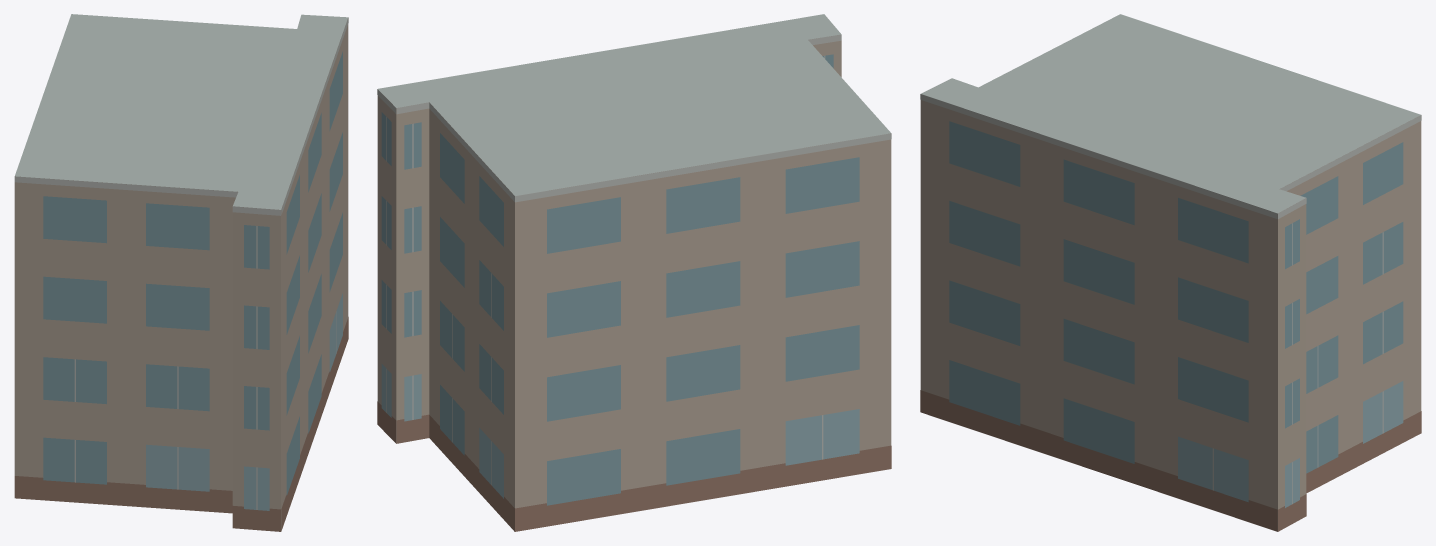
Rendered from survey-upis-32595509.glb.
The picture shows the model from 3 angles, left to right: view 1: azimuth 30°, elevation 25°; view 2: azimuth 150°, elevation 25°; view 3: azimuth 270°, elevation 25°; orthographic projection. The views are drawn at different scales.
Visible parts, largest first — view 1: survey-upis-32595509.tmp; view 2: survey-upis-32595509.tmp; view 3: survey-upis-32595509.tmp.
Part boxes in pixels (left/top/right/bottom): survey-upis-32595509.tmp: left=14, top=14, right=348, bottom=531; survey-upis-32595509.tmp: left=377, top=14, right=891, bottom=531; survey-upis-32595509.tmp: left=920, top=14, right=1421, bottom=531.
Bounding box in the file's own units: 17.74 × 13.2 × 18.83.
